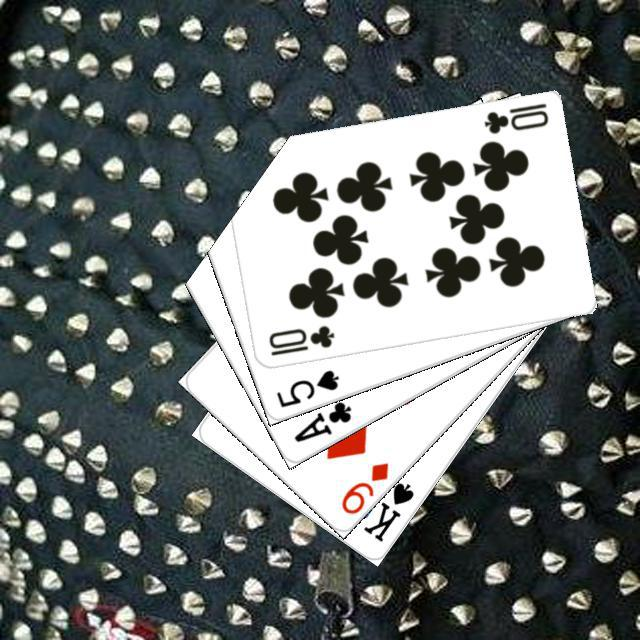10c: (263, 320, 336, 358), (478, 98, 550, 136)
5s: (271, 365, 341, 409)
9d: (336, 457, 391, 516)
Ac: (288, 396, 353, 444)
Ks: (358, 477, 416, 544)
